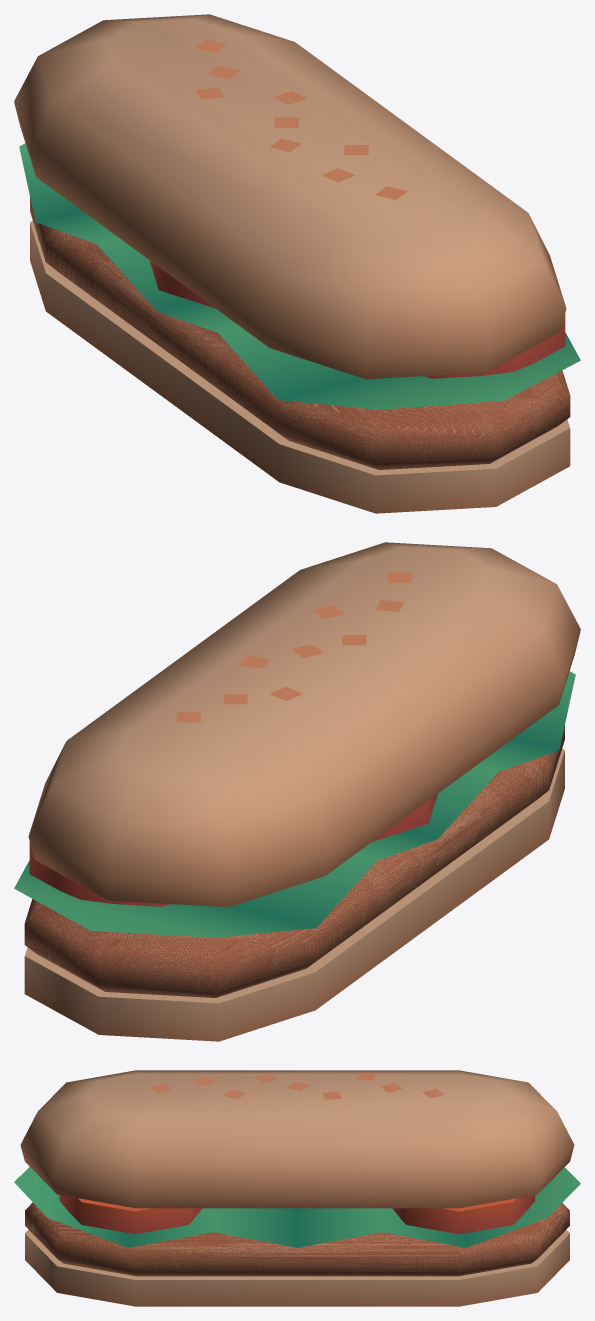
3 renders of one model, top to bottom at view 1: azimuth 30°, elevation 25°; view 2: azimuth 150°, elevation 25°; view 3: azimuth 270°, elevation 25°, orthographic. The views are drawn at different scales.
Visible parts, largest first — view 1: bun-top, meat, bun-bottom, lettuce, tomato (×2); view 2: bun-top, meat, bun-bottom, lettuce, tomato (×2); view 3: bun-top, meat, bun-bottom, lettuce, tomato (×2).
Part boxes in pixels (bbox=[...]): bun-top: bbox=[14, 14, 566, 379]; meat: bbox=[30, 197, 570, 469]; bun-bottom: bbox=[30, 221, 570, 513]; lettuce: bbox=[19, 143, 580, 409]; tomato (×2): bbox=[149, 260, 565, 378]; bun-top: bbox=[28, 542, 580, 907]; meat: bbox=[24, 725, 564, 997]; bun-bottom: bbox=[24, 749, 564, 1041]; lettuce: bbox=[14, 671, 575, 937]; tomato (×2): bbox=[29, 794, 437, 906]; bun-top: bbox=[20, 1070, 574, 1208]; meat: bbox=[25, 1202, 569, 1276]; bun-bottom: bbox=[25, 1229, 569, 1306]; lettuce: bbox=[14, 1167, 580, 1247]; tomato (×2): bbox=[59, 1195, 535, 1234].
Bounding box in the file's own units: 0.2827 × 0.2225 × 0.6756.
